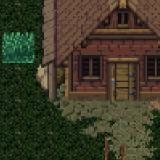Obstacle: (35, 0, 160, 154)
Slow: (2, 32, 34, 62), (98, 145, 136, 160)
